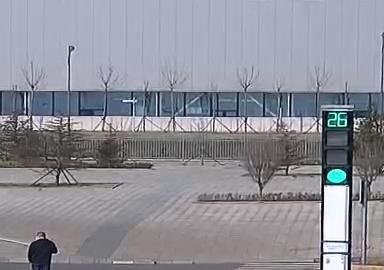green: (322, 168, 347, 183)
redtime: (324, 111, 348, 129)
